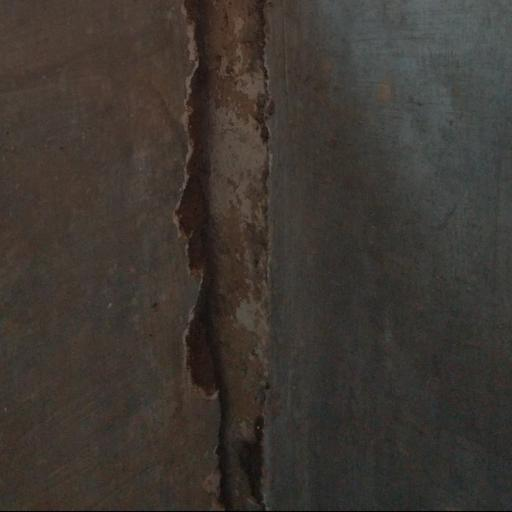major_crack: (176, 0, 304, 512)
